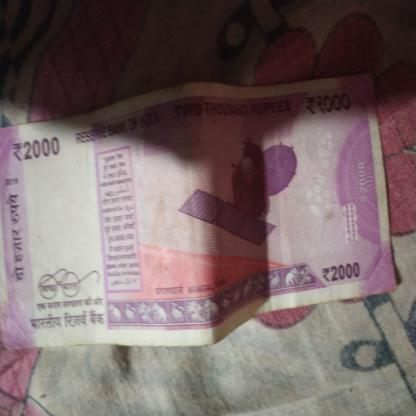New2000Back: (0, 85, 394, 340)
